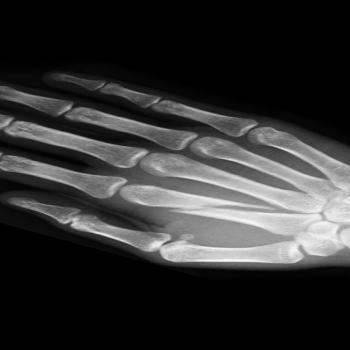Fracture: (163, 203, 293, 220)
